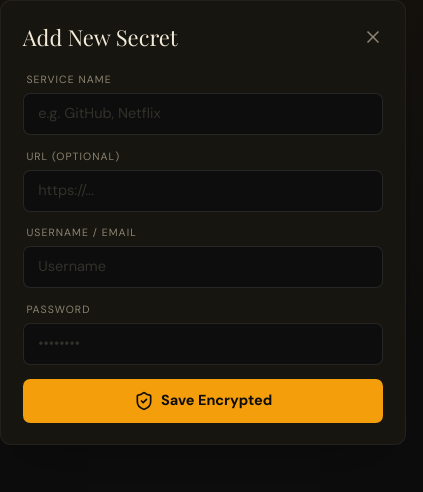
Test: VaultItemForm Component › displays API fetch error message on submit failure
Type "Netflix" into the field with placeholder "e.g. GitHub, Netflix". click: [203, 114]
box: left=23, top=93, right=383, bottom=135
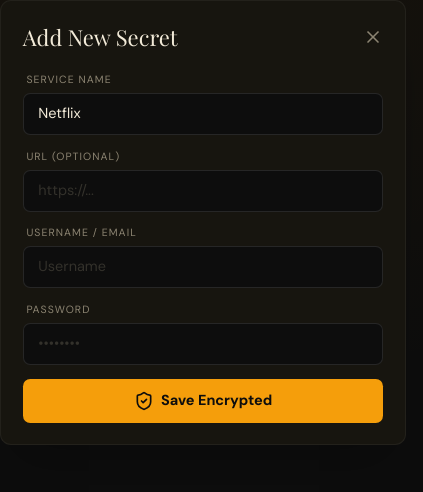
Type "netpass" into the password field with placeholder "••••••••". click: [203, 344]
box: left=23, top=323, right=383, bottom=365
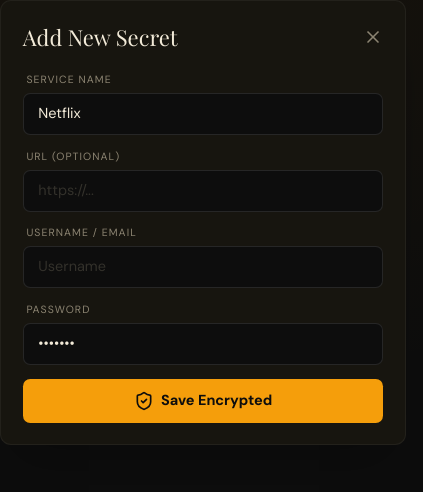
Click the button "Save Encrypted". click: [203, 401]
box: left=23, top=379, right=383, bottom=423
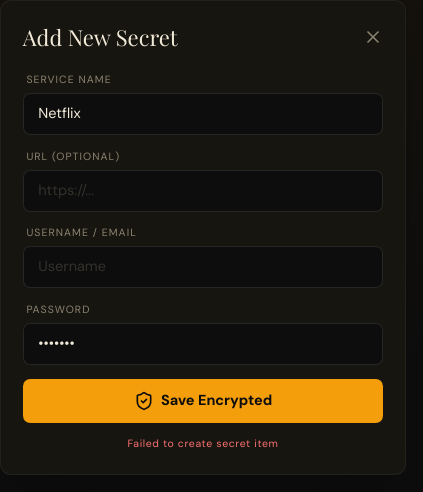
expect the text "Failed to create secret item" is shown: met, box left=127, top=437, right=279, bottom=450
